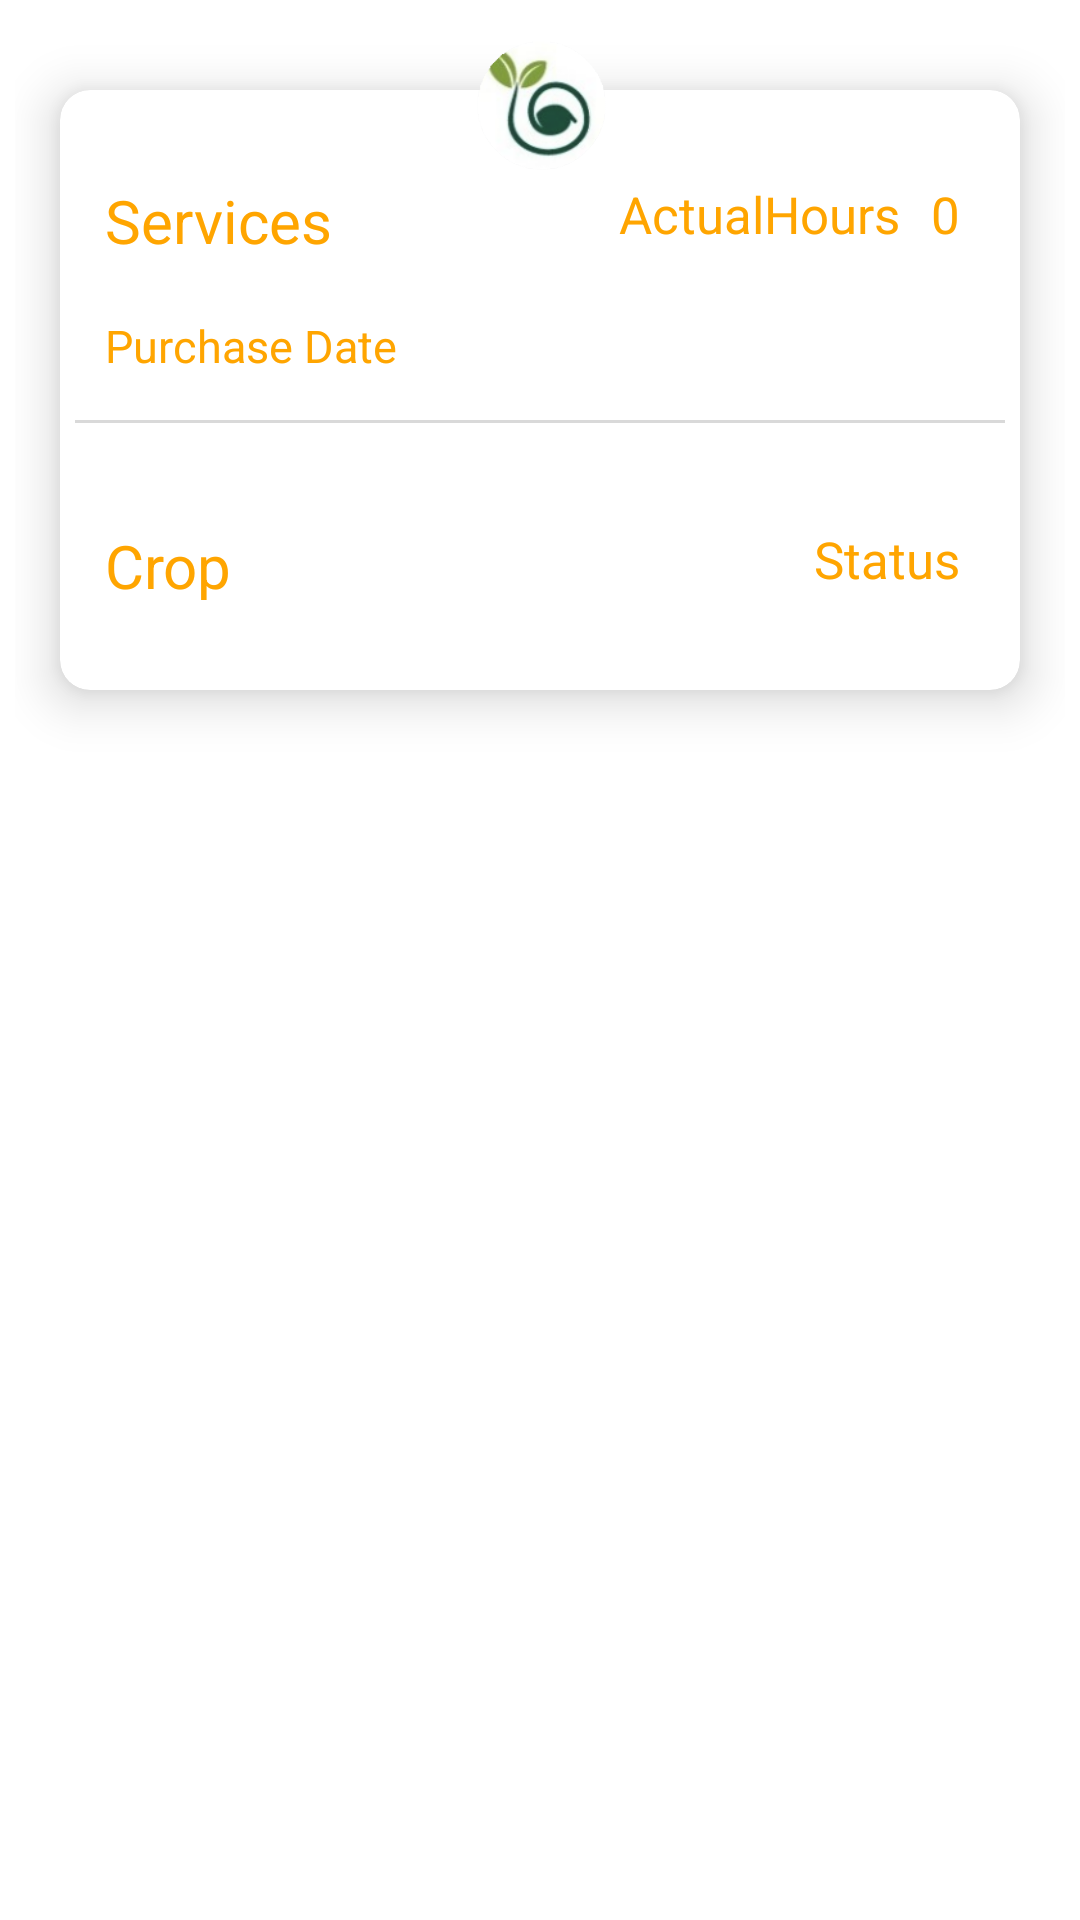

Where to tap for icons on this 1080 × 1920 app screen, as [x,y]:
leaf: [539,104]
